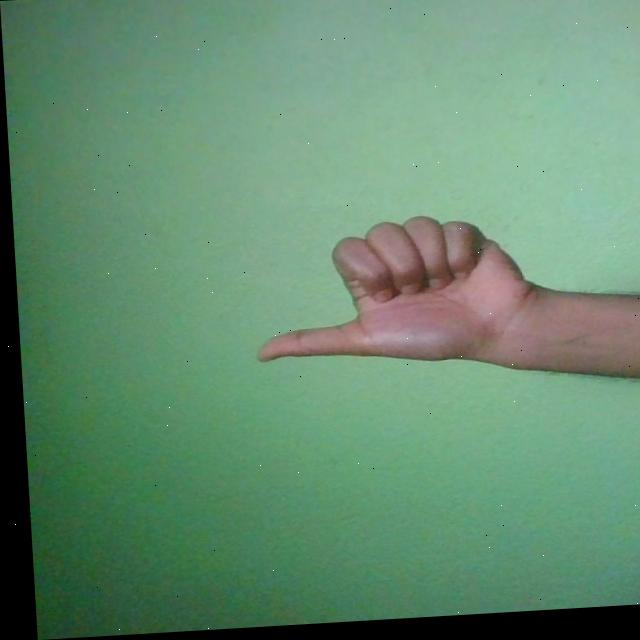Good Job: (245, 214, 536, 373)
